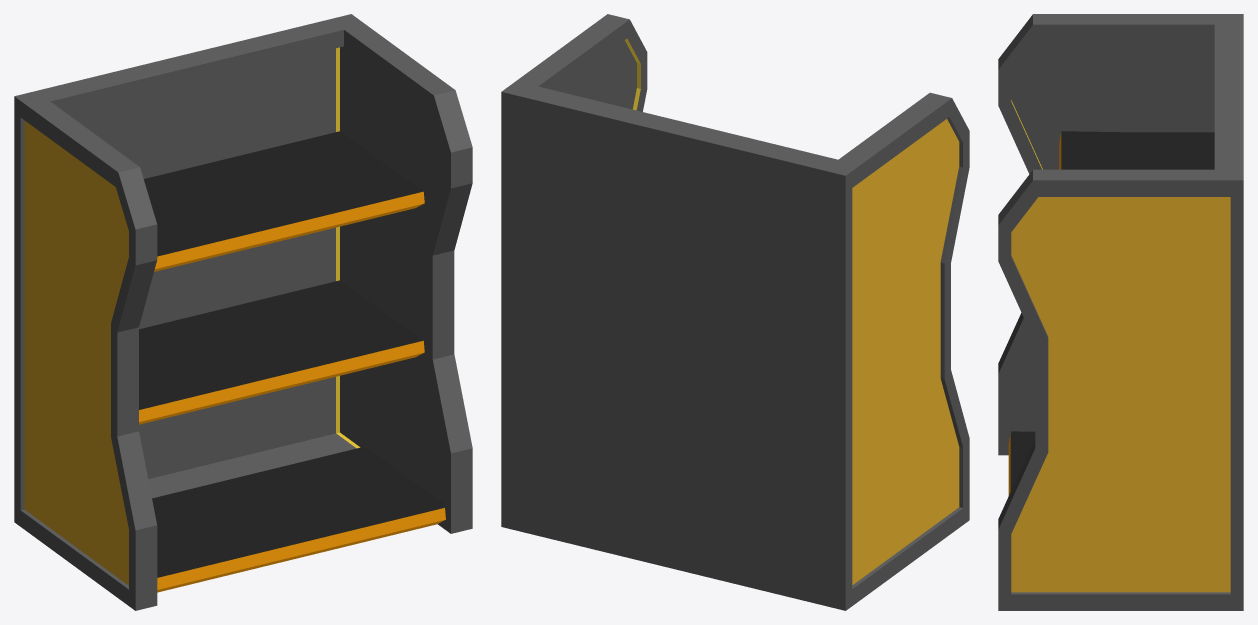
Rendered from Stand 1.fbx.
3 renders of one model, left to right at view 1: azimuth 30°, elevation 25°; view 2: azimuth 150°, elevation 25°; view 3: azimuth 270°, elevation 25°, orthographic. The views are drawn at different scales.
Visible parts, largest first — view 1: Cube.082; view 2: Cube.082; view 3: Cube.082.
Part boxes in pixels (x1,y1,x2,y2): Cube.082: (14, 14, 472, 610); Cube.082: (501, 14, 969, 610); Cube.082: (998, 14, 1243, 610).
Size of the model in its own units: 1.33 by 1.61 by 0.8253.
